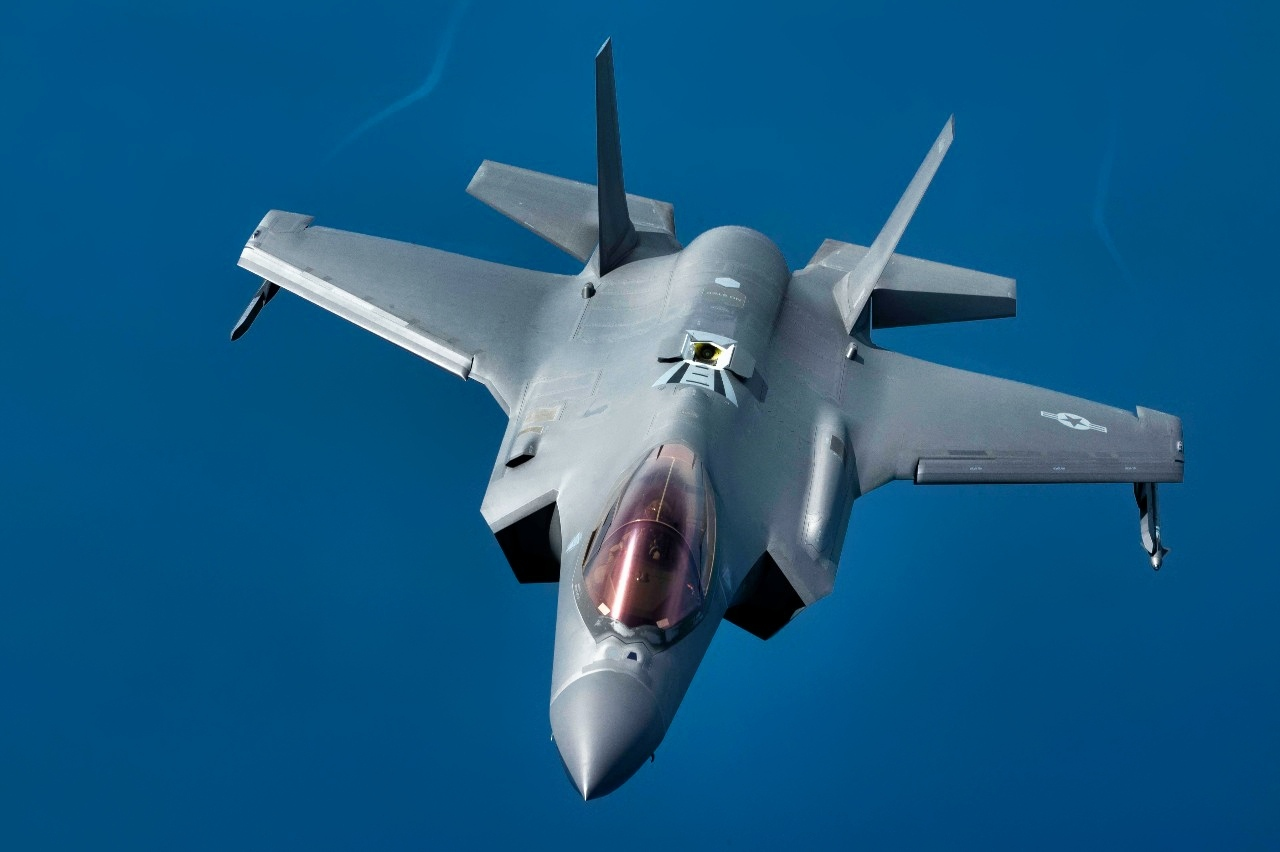F35: (220, 29, 1195, 826)
